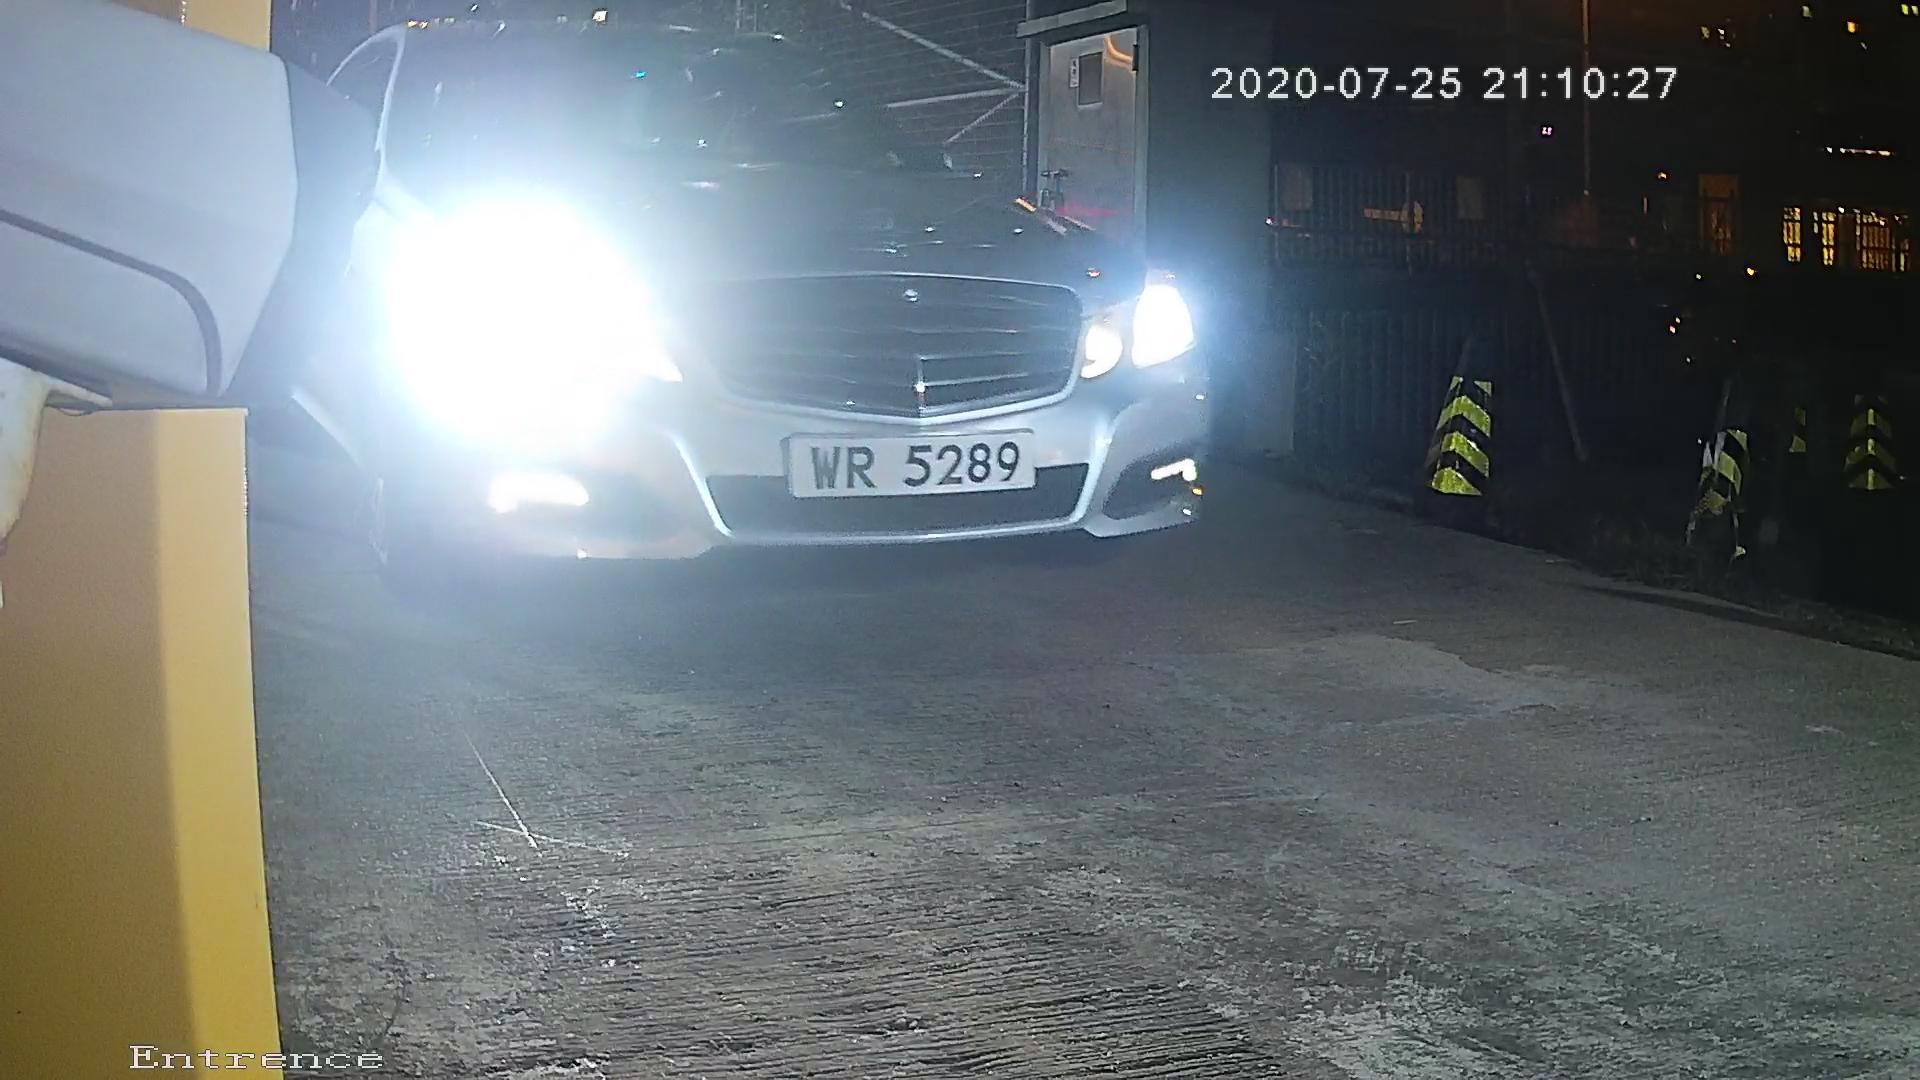License Plate: (763, 415, 1063, 516)
